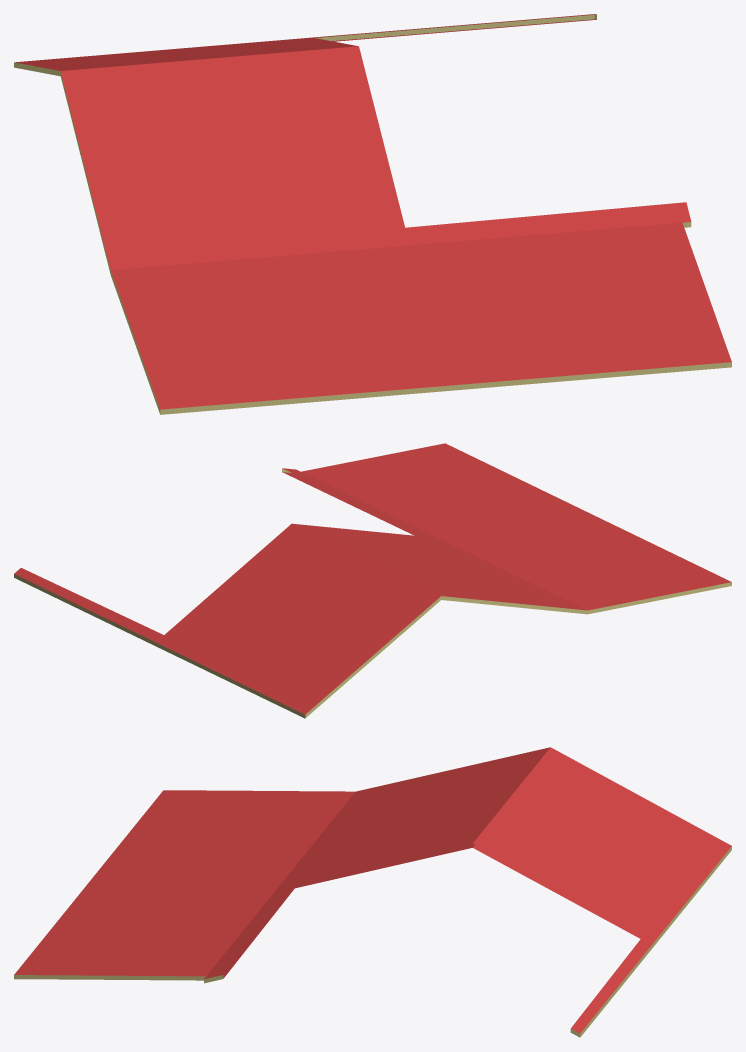
3 views of the same model, one above another, from view 1: azimuth 30°, elevation 25°; view 2: azimuth 150°, elevation 25°; view 3: azimuth 270°, elevation 25° (orthographic). The views are drawn at different scales.
Bounding box in the file's own units: 13.87 × 15.59 × 2.47.
